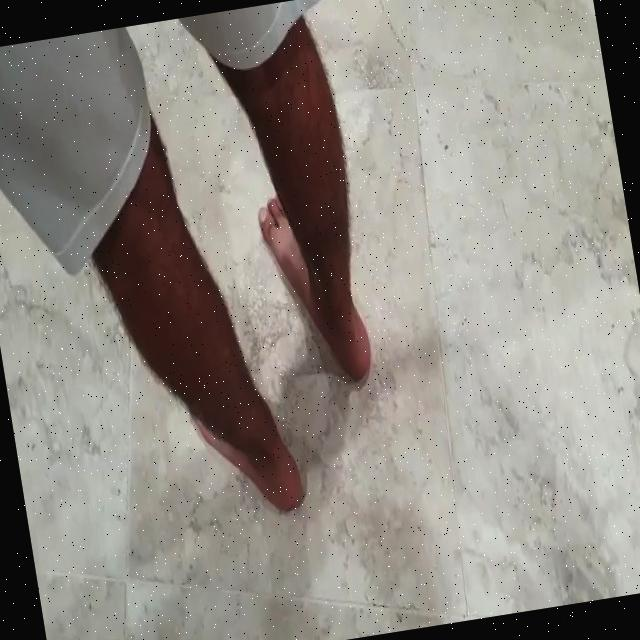no-boots: (242, 164, 398, 418), (162, 362, 319, 542)
